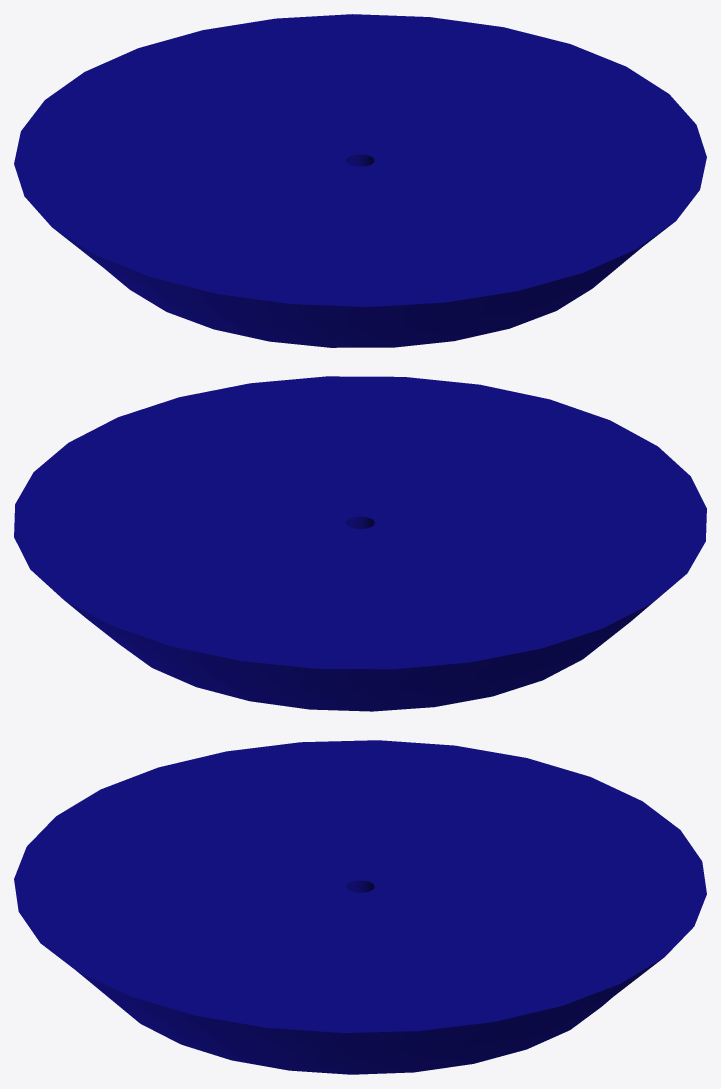
3 renders of one model, top to bottom at view 1: azimuth 30°, elevation 25°; view 2: azimuth 150°, elevation 25°; view 3: azimuth 270°, elevation 25°, orthographic.
Parts seen in each view (by area): view 1: node2; view 2: node2; view 3: node2.
Part boxes in pixels (x1,y1,x2,y2): node2: (14,14,706,347); node2: (14,376,706,711); node2: (14,740,706,1074).
Size of the model in its own units: 0.1522 by 0.1522 by 0.0406.
